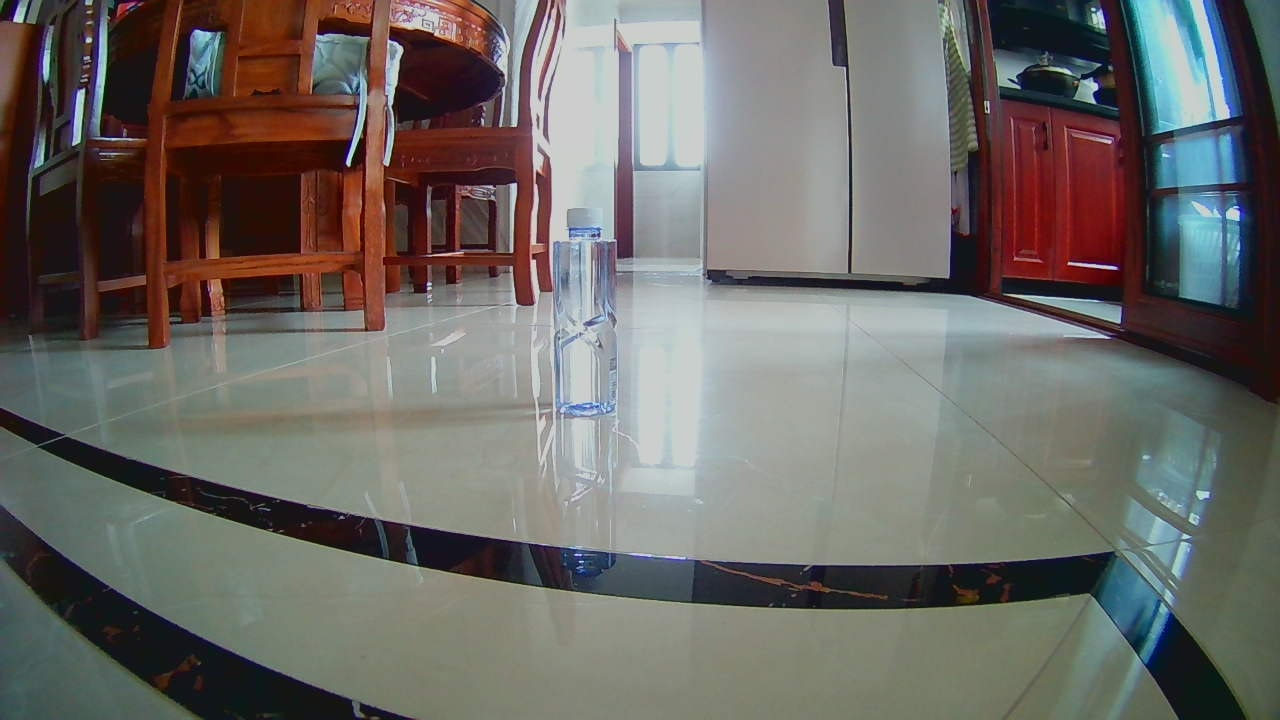water: (555, 210, 615, 416)
